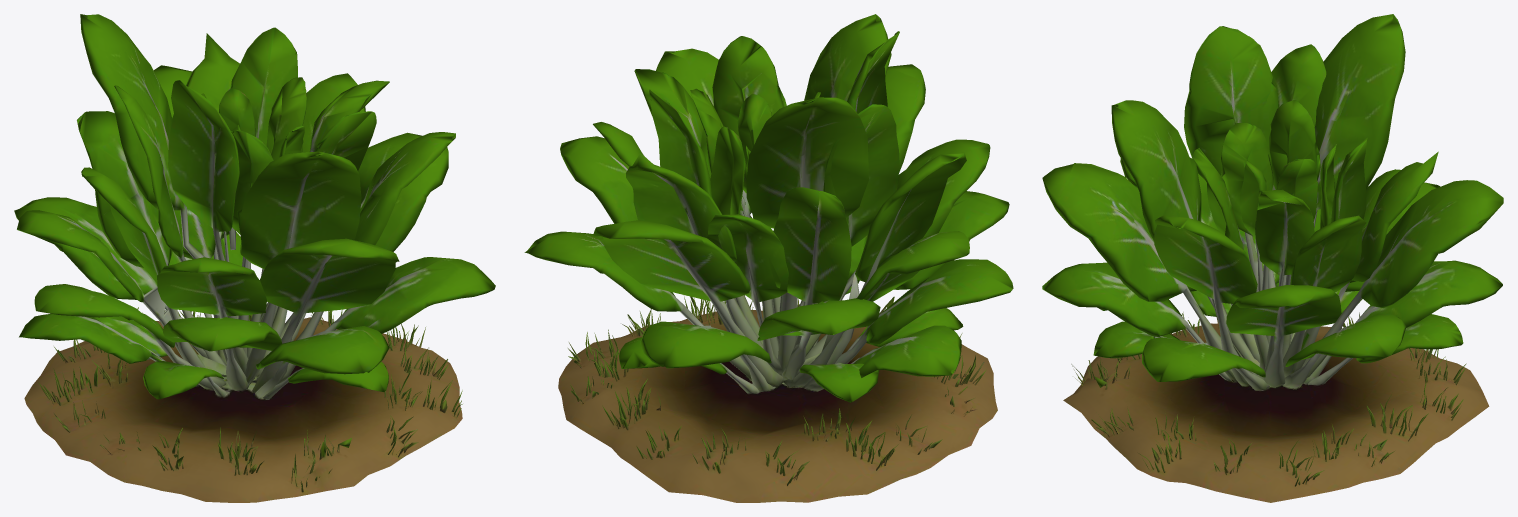
3 views of the same model, side by side, from view 1: azimuth 30°, elevation 25°; view 2: azimuth 150°, elevation 25°; view 3: azimuth 270°, elevation 25° (orthographic). The views are drawn at different scales.
Parts seen in each view (by area): view 1: tripo_node_164bb92b-9b4a-41c7-8a1b-75b0522d64c6; view 2: tripo_node_164bb92b-9b4a-41c7-8a1b-75b0522d64c6; view 3: tripo_node_164bb92b-9b4a-41c7-8a1b-75b0522d64c6.
Part boxes in pixels (box(x1,y1,x2,y2)): tripo_node_164bb92b-9b4a-41c7-8a1b-75b0522d64c6: box(14, 14, 495, 502); tripo_node_164bb92b-9b4a-41c7-8a1b-75b0522d64c6: box(524, 14, 1013, 502); tripo_node_164bb92b-9b4a-41c7-8a1b-75b0522d64c6: box(1042, 14, 1503, 502).
Size of the model in its own units: 0.5262 by 0.45 by 0.5295.
1 material, 1 textured.
